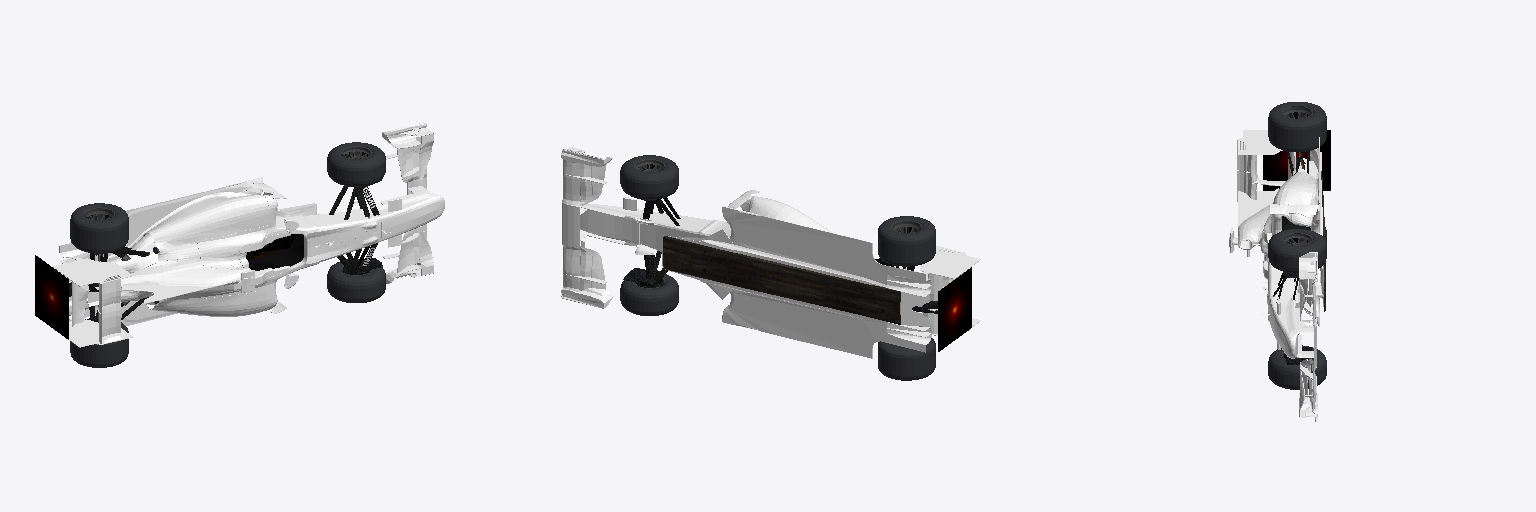
The picture shows the model from 3 angles: view 1: azimuth 30°, elevation 25°; view 2: azimuth 150°, elevation 25°; view 3: azimuth 270°, elevation 25°; orthographic projection.
Visible parts, largest first — view 1: object__58, object__23, object__61, object__20, object__21, object__25, object__52, object__56, object__54, object__50, object__48, object__46 (+10 smaller); view 2: object__58, object__56, object__0, object__14, object__20, object__25, object__52, object__50, object__48, object__46, object__54, object__23 (+5 smaller); view 3: object__58, object__52, object__20, object__25, object__23, object__61, object__48, object__46, object__57, object__67, object__54, object__47 (+2 smaller).
Part boxes in pixels (x1,y1,x2,y2): object__58: (95,177,390,325); object__23: (108,187,268,261); object__61: (121,258,229,303); object__20: (376,190,444,247); object__21: (146,288,268,316); object__25: (35,255,68,339); object__52: (70,211,128,253); object__56: (69,234,303,303); object__54: (53,258,132,286); object__50: (70,327,128,367); object__48: (327,152,385,185); object__46: (327,270,385,302); object__58: (635,202,937,358); object__56: (663,236,937,324); object__0: (562,159,606,292); object__14: (887,266,931,352); object__20: (579,197,643,246); object__25: (938,267,971,351); object__52: (878,225,935,265); object__50: (878,339,935,380); object__48: (620,165,678,198); object__46: (620,282,678,315); object__54: (920,246,980,278); object__23: (750,197,831,232); object__58: (1251,137,1323,326); object__52: (1268,111,1326,151); object__20: (1270,297,1301,358); object__25: (1263,130,1330,190); object__23: (1273,172,1318,217); object__61: (1238,188,1278,231); object__48: (1268,237,1326,272); object__46: (1268,355,1326,388); object__57: (1238,203,1318,322); object__67: (1237,141,1258,200); object__54: (1237,130,1282,154); object__47: (1270,229,1324,273).
Bounding box in the file's own units: 4.97 × 1.82 × 1.12.
7 materials, 6 textured.